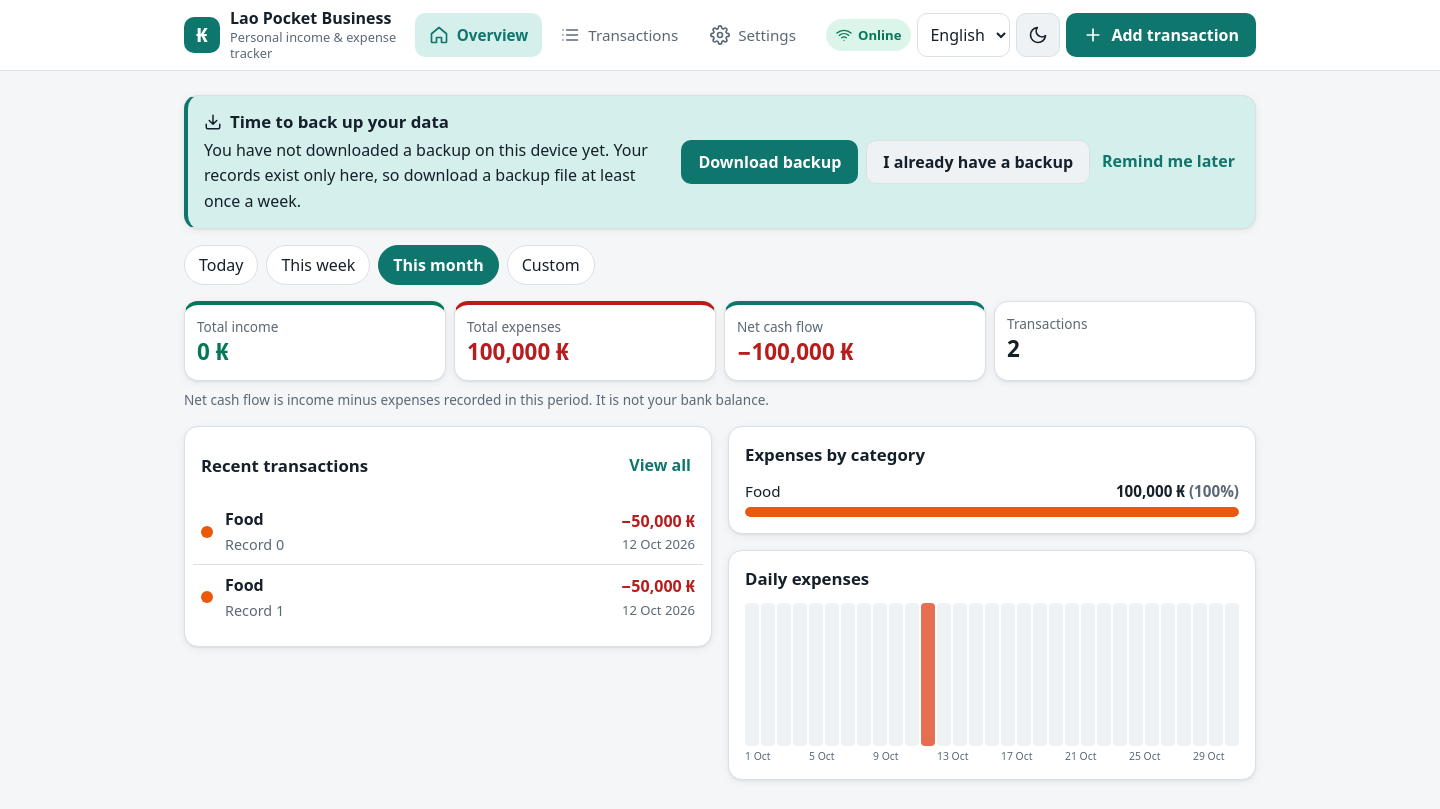
Test: reminder actions › "Download backup" exports a real JSON file and records the backup time
Click the button "Download backup" at (770, 162), box [681,140,858,184]
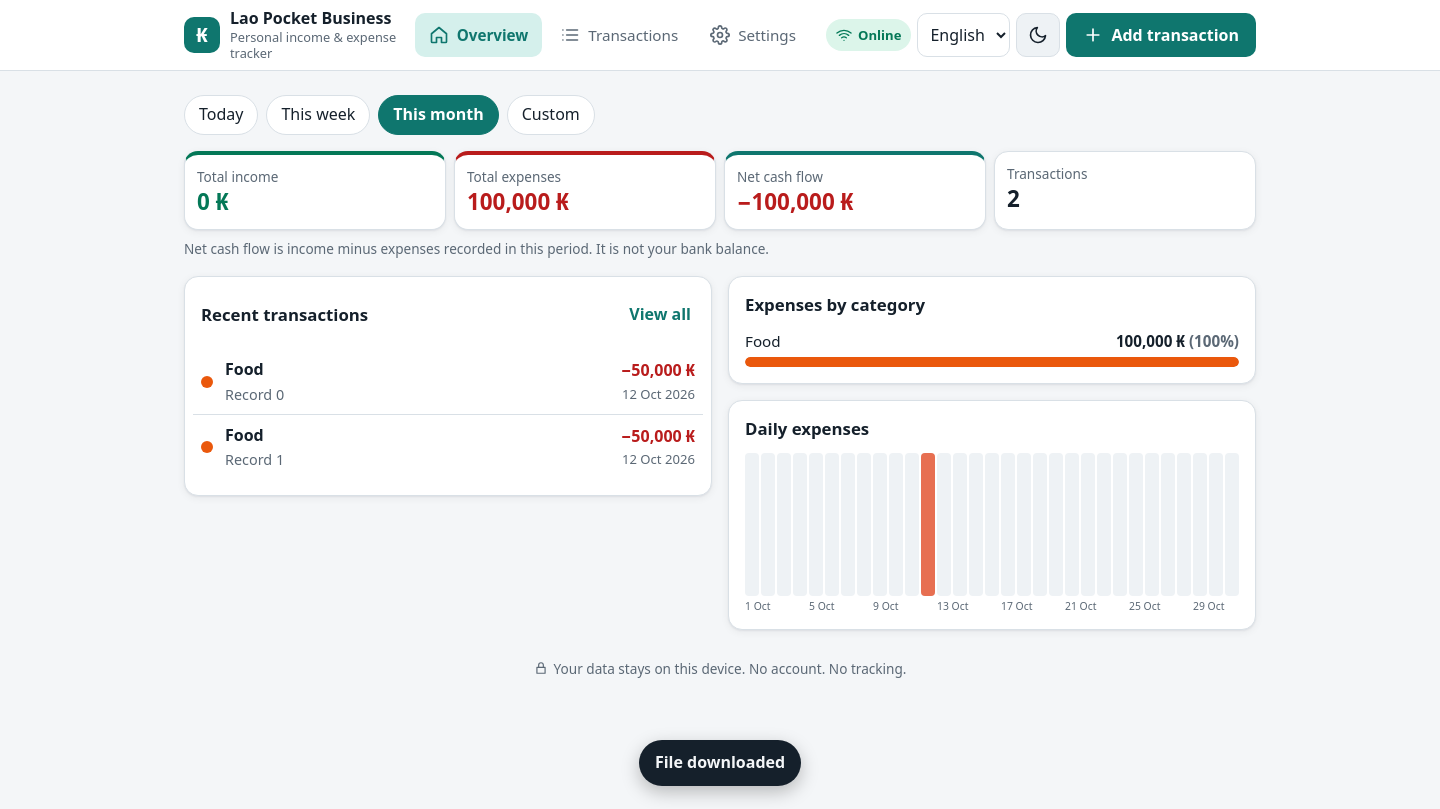
Result: the element with test id "backup-reminder" is gone
Result: the text "File downloaded" is shown at [639,740,801,786]
Click the button "Settings" at (753, 35), box [696,13,810,57]
(page scrolled)
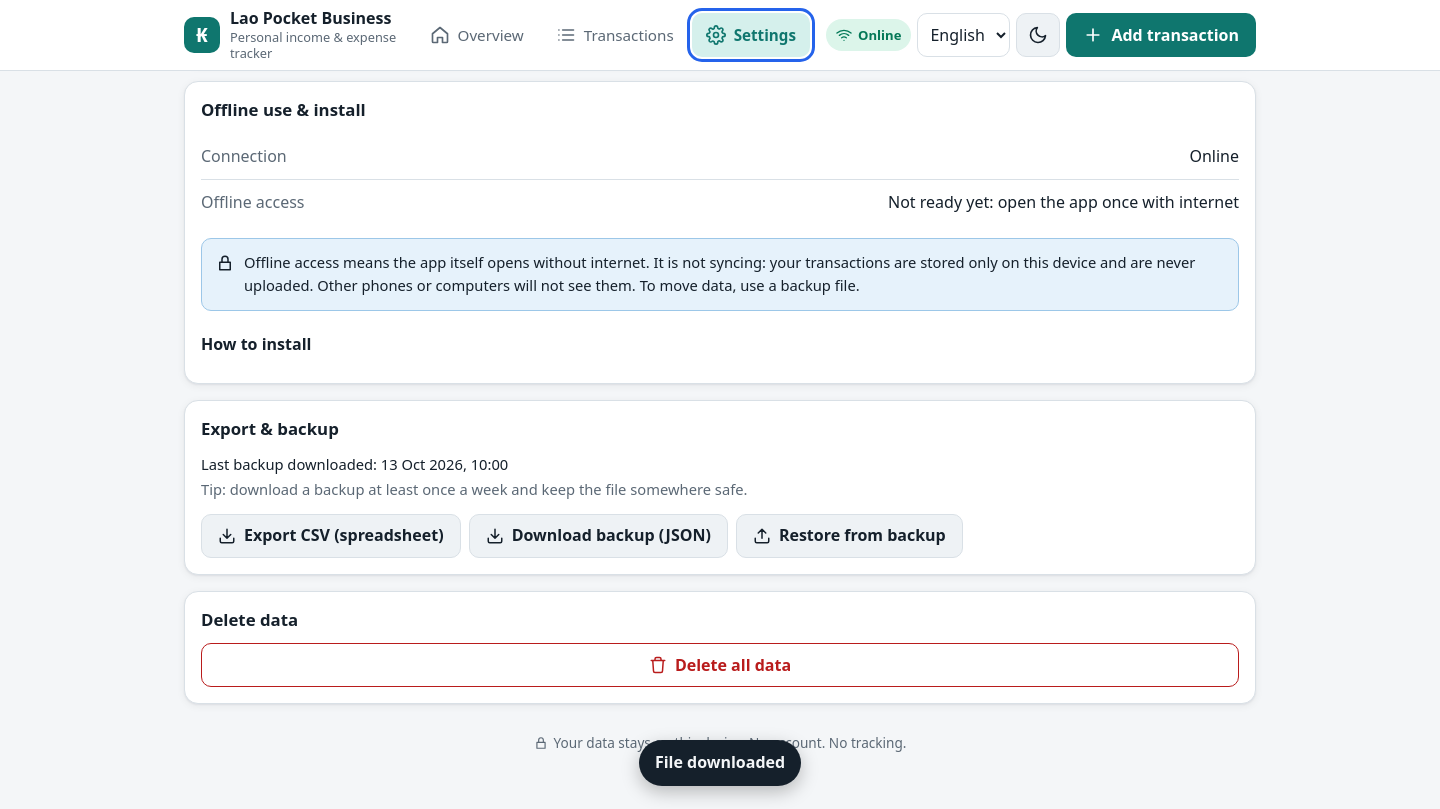
Result: the element with test id "backup-status" shows "Last backup downloaded: 13 Oct 2026, 10:00" at [201,454,508,474]
